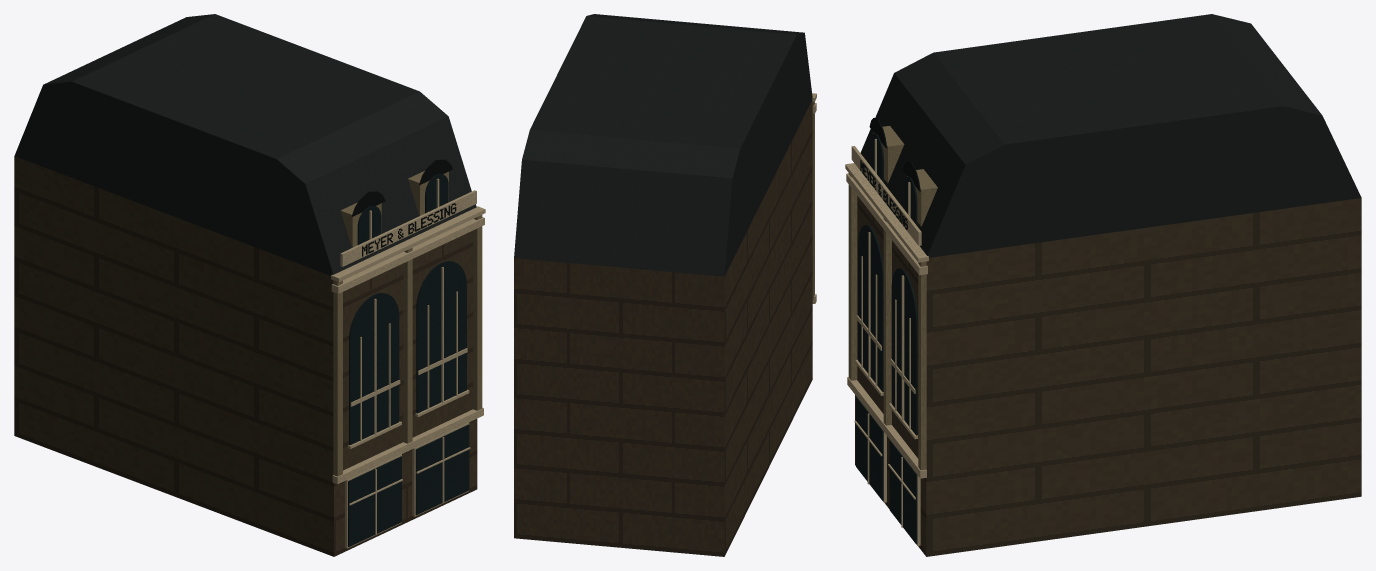
The picture shows the model from 3 angles, left to right: view 1: azimuth 30°, elevation 25°; view 2: azimuth 150°, elevation 25°; view 3: azimuth 270°, elevation 25°; orthographic projection. The views are drawn at different scales.
Parts seen in each view (by area): view 1: meyer-blessing-noordblaak-0, meyer-blessing-noordblaak-2, meyer-blessing-noordblaak-4, meyer-blessing-noordblaak-5, meyer-blessing-noordblaak-1, meyer-blessing-noordblaak-3; view 2: meyer-blessing-noordblaak-0, meyer-blessing-noordblaak-2, meyer-blessing-noordblaak-1; view 3: meyer-blessing-noordblaak-0, meyer-blessing-noordblaak-2, meyer-blessing-noordblaak-4, meyer-blessing-noordblaak-5, meyer-blessing-noordblaak-1, meyer-blessing-noordblaak-3.
Part boxes in pixels (box(x1,y1,x2,y2)): meyer-blessing-noordblaak-0: box(14, 156, 477, 556); meyer-blessing-noordblaak-2: box(14, 14, 476, 275); meyer-blessing-noordblaak-4: box(348, 174, 469, 546); meyer-blessing-noordblaak-5: box(331, 178, 485, 548); meyer-blessing-noordblaak-1: box(333, 171, 482, 476); meyer-blessing-noordblaak-3: box(351, 159, 456, 256); meyer-blessing-noordblaak-0: box(514, 100, 812, 556); meyer-blessing-noordblaak-2: box(514, 14, 812, 276); meyer-blessing-noordblaak-1: box(812, 101, 814, 299); meyer-blessing-noordblaak-0: box(855, 196, 1361, 556); meyer-blessing-noordblaak-2: box(860, 14, 1361, 257); meyer-blessing-noordblaak-4: box(856, 133, 917, 543); meyer-blessing-noordblaak-5: box(845, 139, 928, 545); meyer-blessing-noordblaak-1: box(848, 125, 937, 470); meyer-blessing-noordblaak-3: box(860, 117, 920, 229).
Size of the model in its own units: 17.76 by 21.5 by 25.07.
6 materials, 6 textured.
